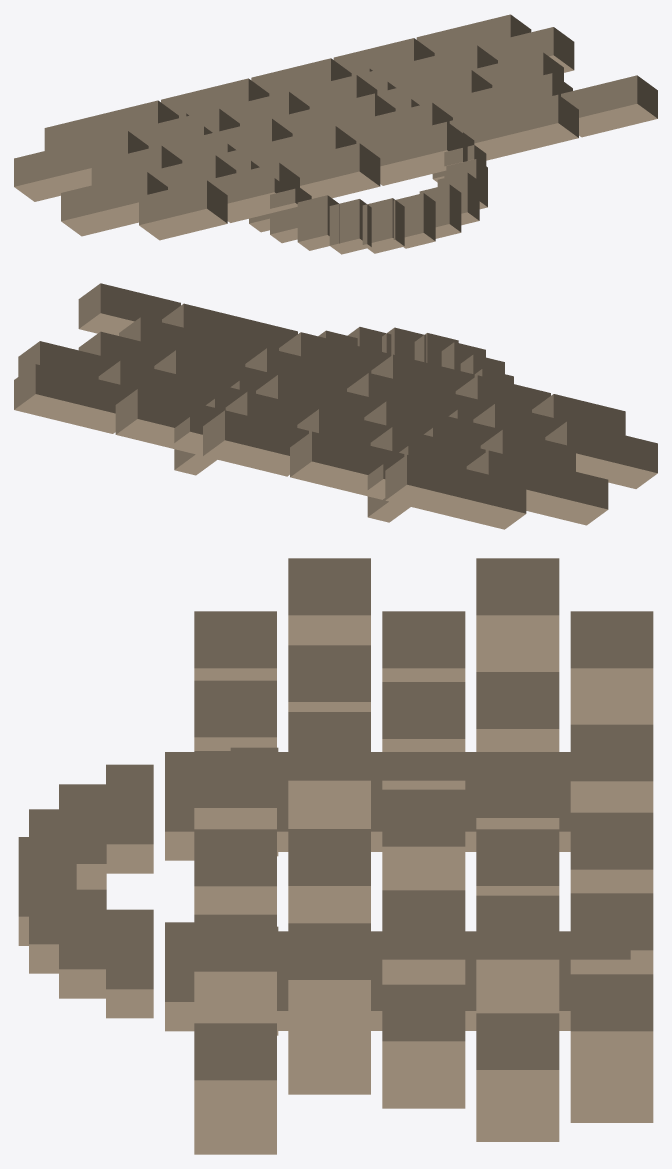
File: town_wall_gate.glb
The picture shows the model from 3 angles, top to bottom: view 1: azimuth 30°, elevation 25°; view 2: azimuth 150°, elevation 25°; view 3: azimuth 270°, elevation 25°; orthographic projection. The views are drawn at different scales.
Parts seen in each view (by area): view 1: world; view 2: world; view 3: world.
Part boxes in pixels (x1,y1,x2,y2): world: (14, 14, 657, 254); world: (14, 283, 657, 529); world: (18, 558, 653, 1154).
Bounding box in the file's own units: 10.18 × 0.95 × 5.06.
